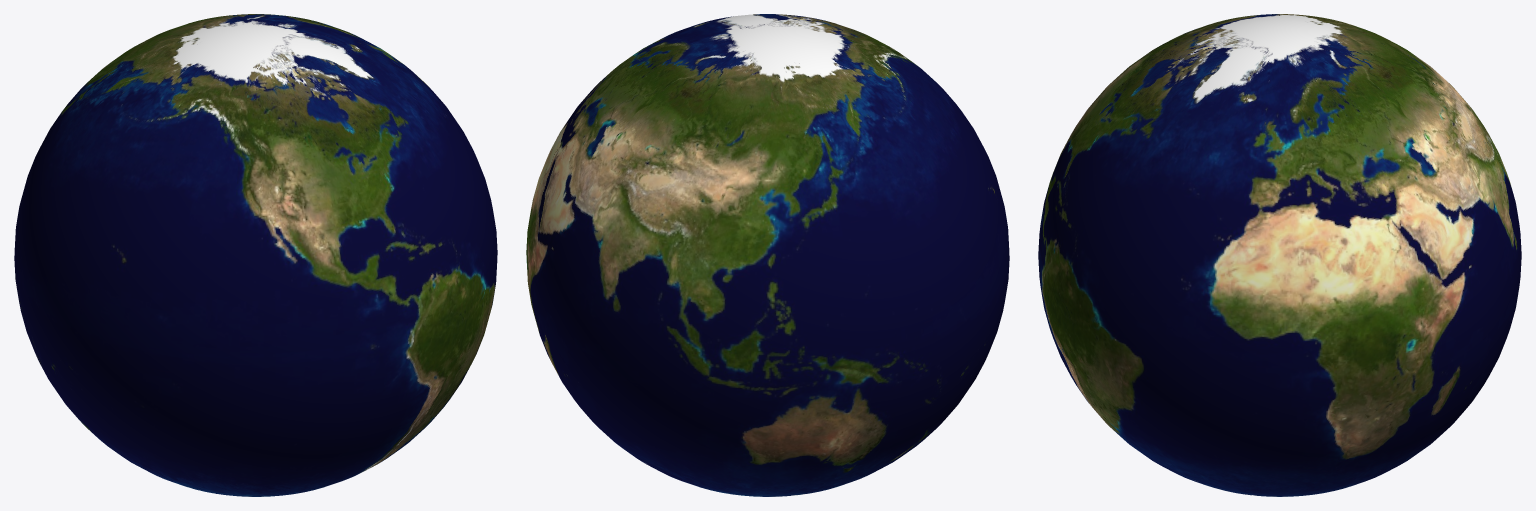
Rendered from earth.glb.
3 renders of one model, left to right at view 1: azimuth 30°, elevation 25°; view 2: azimuth 150°, elevation 25°; view 3: azimuth 270°, elevation 25°, orthographic.
Visible parts, largest first — view 1: Earth; view 2: Earth; view 3: Earth.
Boxes of the visible parts, box(x1,y1,x2,y2) form: Earth: box(14, 14, 497, 496); Earth: box(526, 14, 1009, 496); Earth: box(1038, 14, 1521, 496).
Bounding box in the file's own units: 4.12 × 4.12 × 4.12.
Materials: 1 (1 with a texture image).
